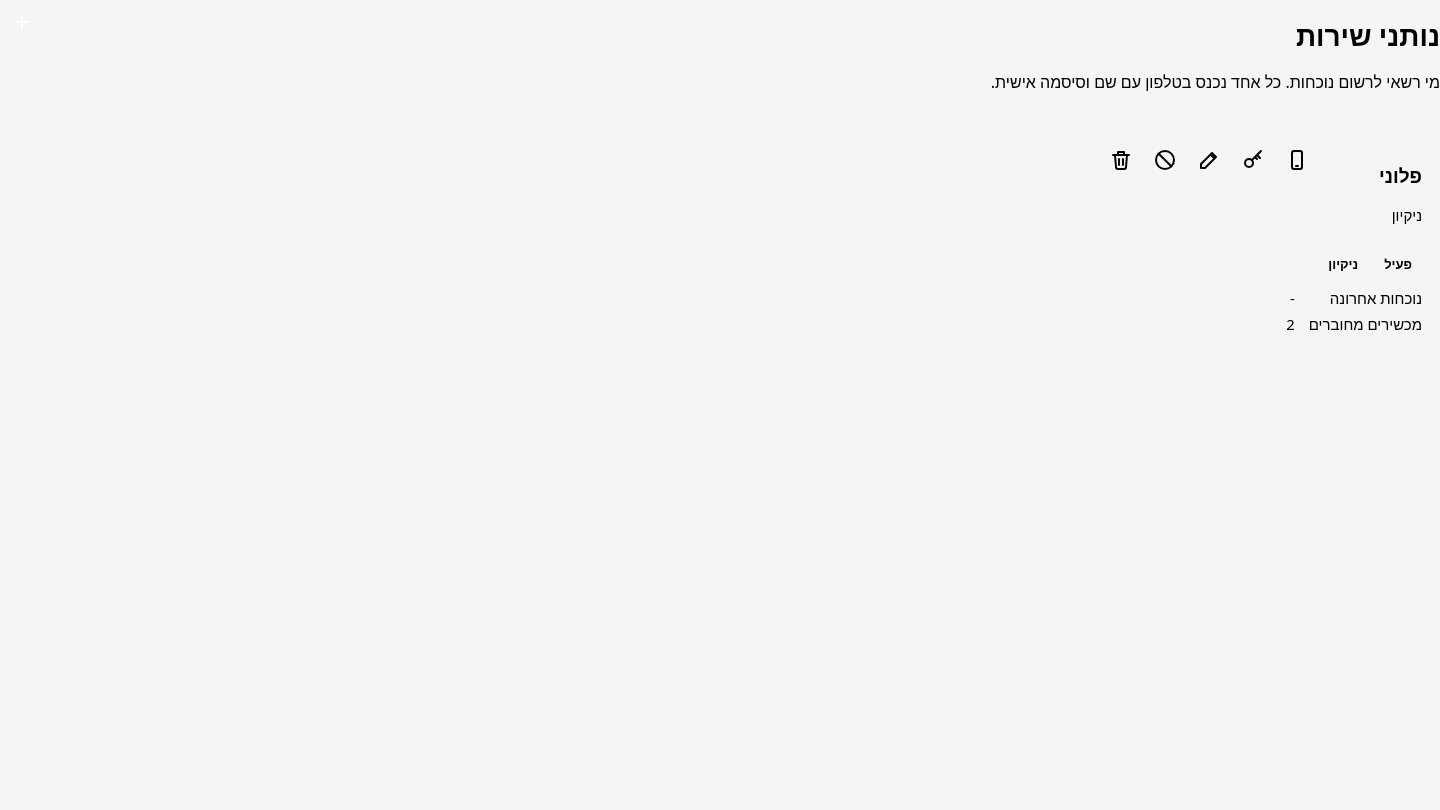
Test case: the phones dialog › writes every date and time as DD/MM/YYYY HH:MM, and no other way
expect the heading "פלוני" is shown: met, box [1379,163,1422,189]
Click the button named "מכשירים".
click(1296, 160)  # box [1274,138,1318,182]
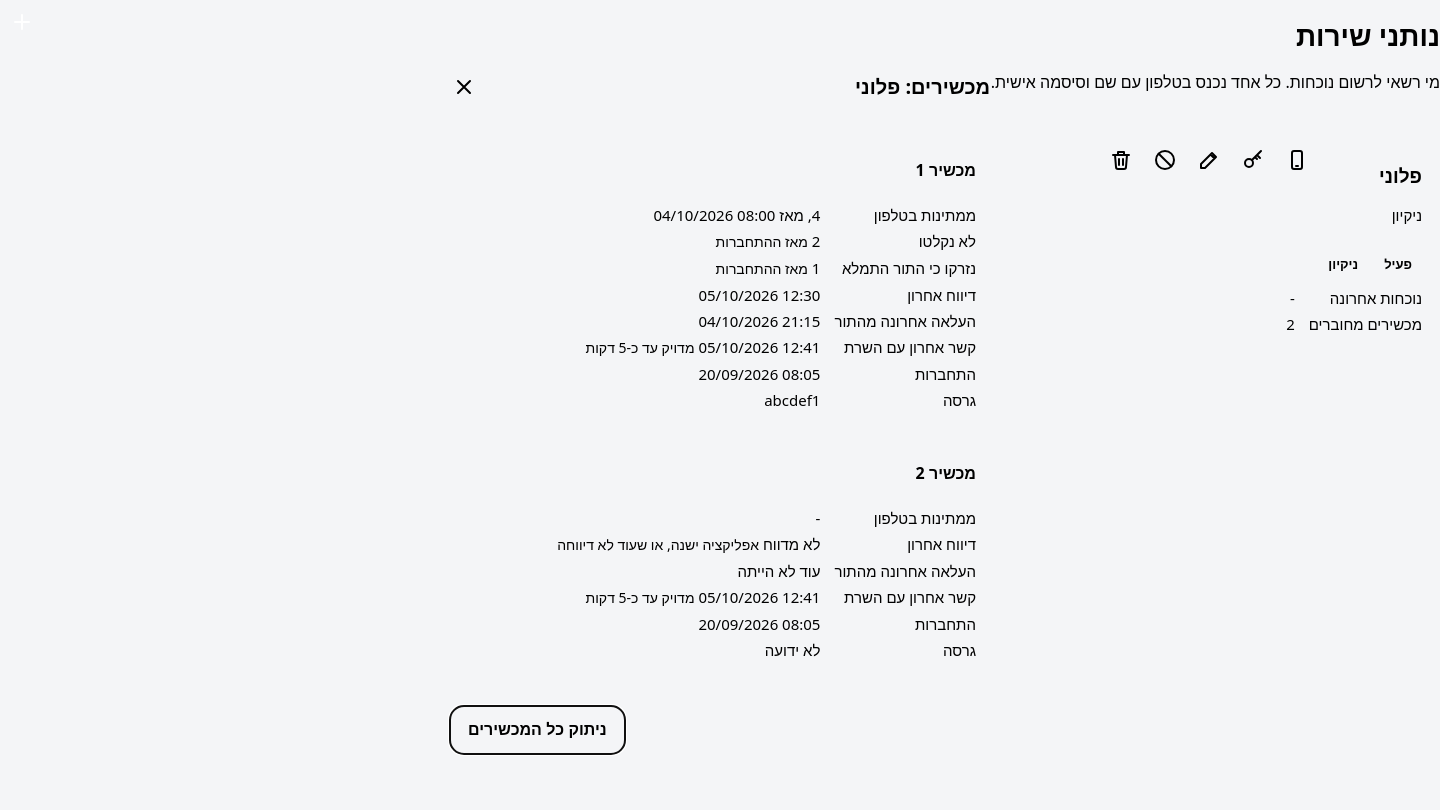
expect the heading "מכשיר 1" is shown: met, box [916,159,976,181]
